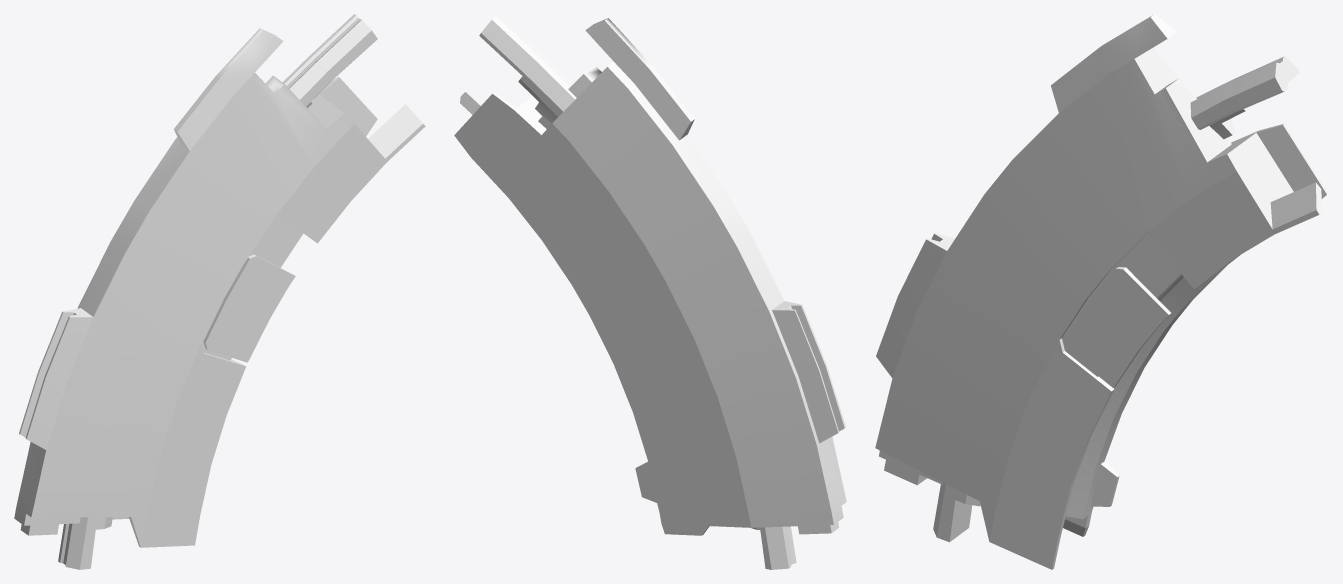
File: kpr_ring_base_part_03.glb
3 views of the same model, side by side, from view 1: azimuth 30°, elevation 25°; view 2: azimuth 150°, elevation 25°; view 3: azimuth 330°, elevation 25° (orthographic). The views are drawn at different scales.
Parts seen in each view (by area): view 1: kpr_ring_base_part_03; view 2: kpr_ring_base_part_03; view 3: kpr_ring_base_part_03.
Boxes of the visible parts, x1,y1,x2,y2 form: kpr_ring_base_part_03: (14,14,425,569); kpr_ring_base_part_03: (454,14,846,569); kpr_ring_base_part_03: (875,14,1328,569).
Bounding box in the file's own units: 158 × 191 × 20.12.
2 materials, 2 textured.
